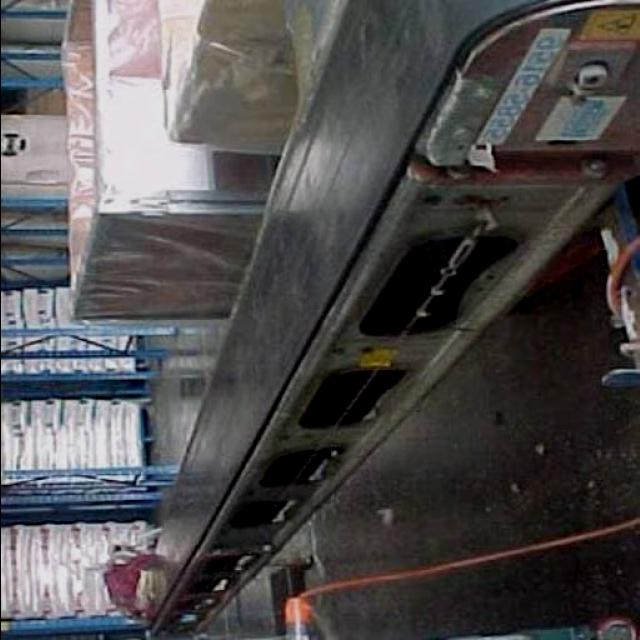conveyor: (141, 0, 553, 640)
